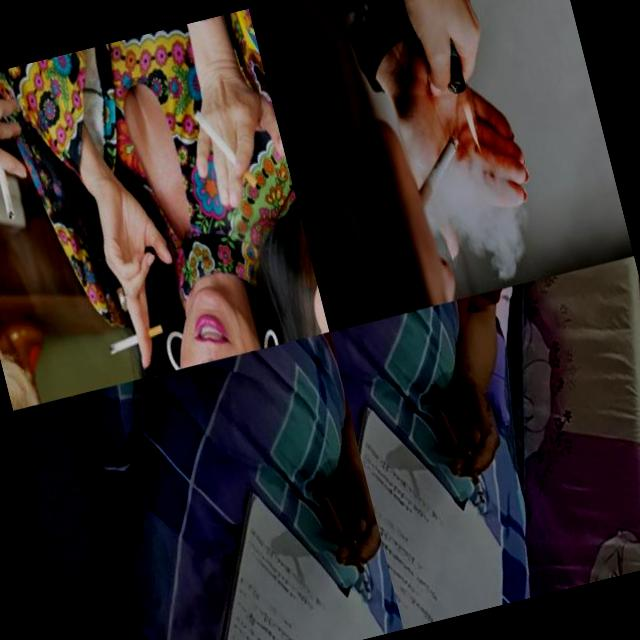cigarette: (192, 98, 260, 198), (403, 132, 474, 212), (105, 321, 167, 356), (0, 157, 18, 222), (465, 449, 486, 504), (350, 538, 371, 592)
